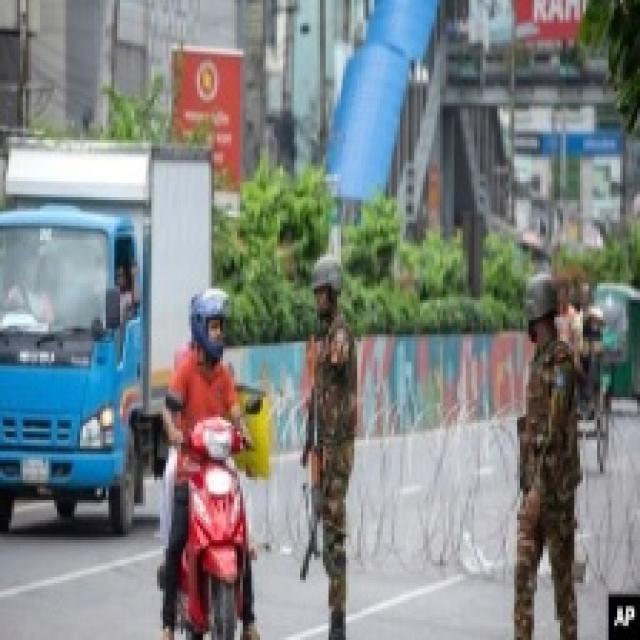bike: (161, 403, 260, 637)
